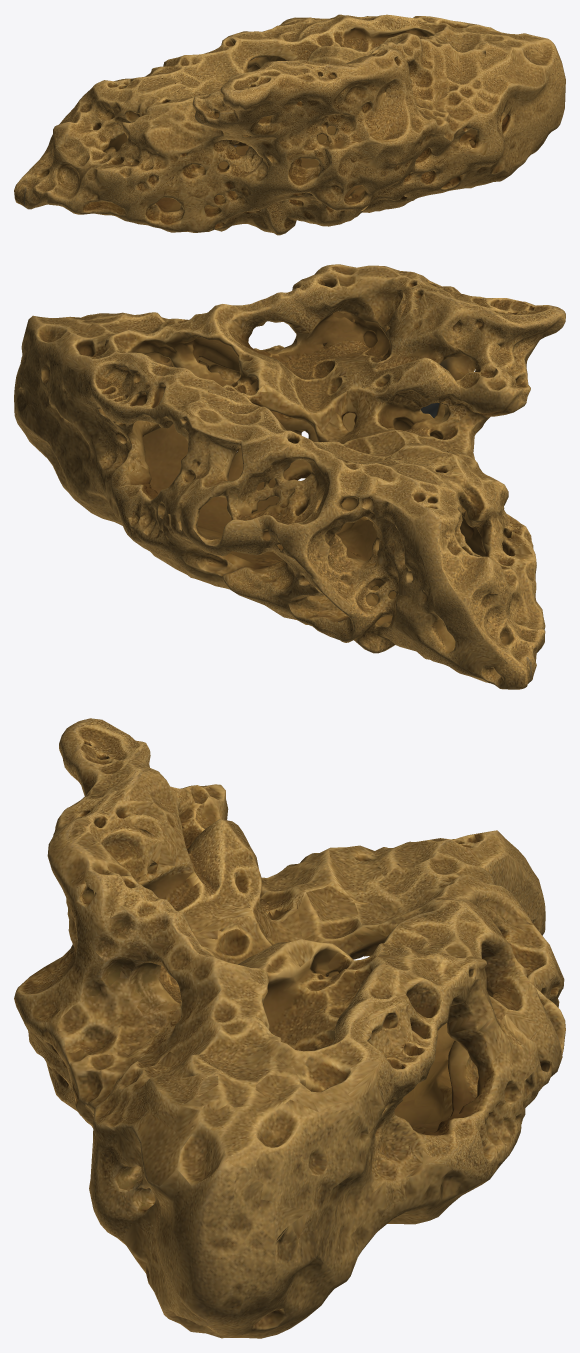
Rendered from superbigGold.glb.
The picture shows the model from 3 angles, top to bottom: view 1: azimuth 30°, elevation 25°; view 2: azimuth 150°, elevation 25°; view 3: azimuth 270°, elevation 25°; orthographic projection. The views are drawn at different scales.
Parts seen in each view (by area): view 1: superbigGold.001; view 2: superbigGold.001; view 3: superbigGold.001.
Part boxes in pixels (x1,y1,x2,y2): superbigGold.001: (14,14,565,235); superbigGold.001: (14,264,565,689); superbigGold.001: (14,718,565,1338).
Size of the model in its own units: 0.7124 by 0.2976 by 0.396.
Materials: 1 (1 with a texture image).
